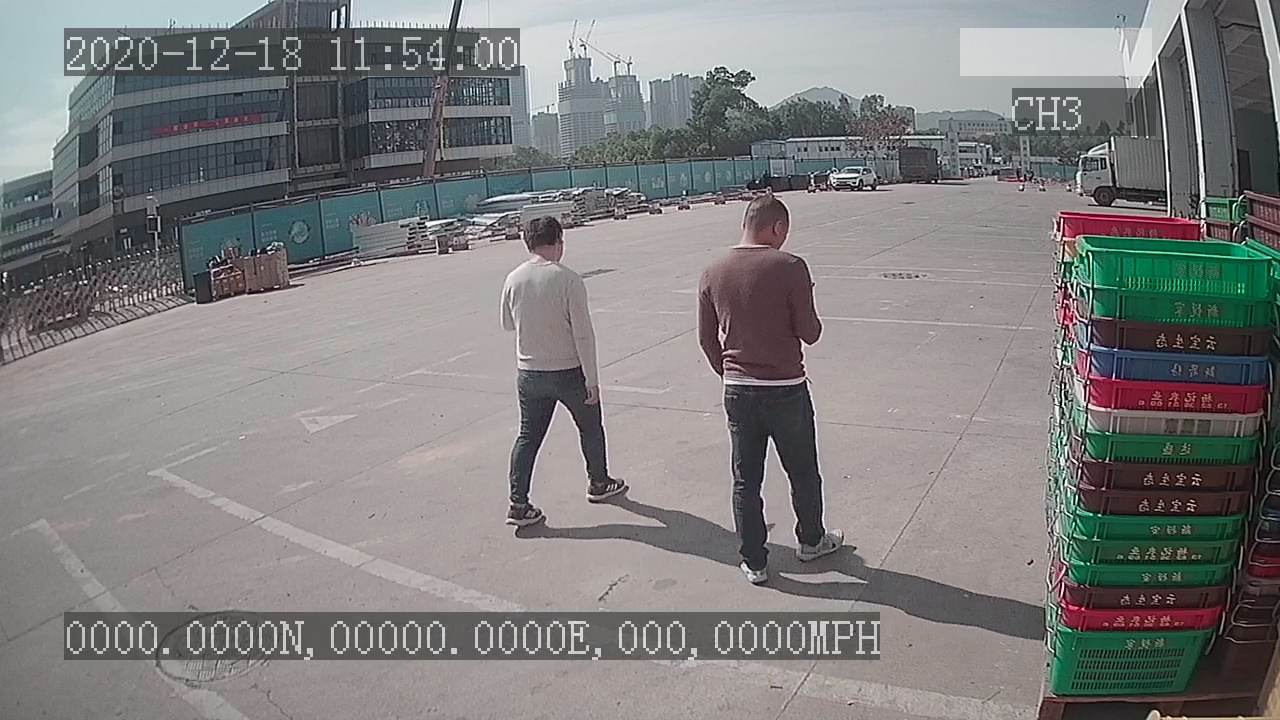person: (690, 186, 852, 588), (486, 211, 640, 531)
